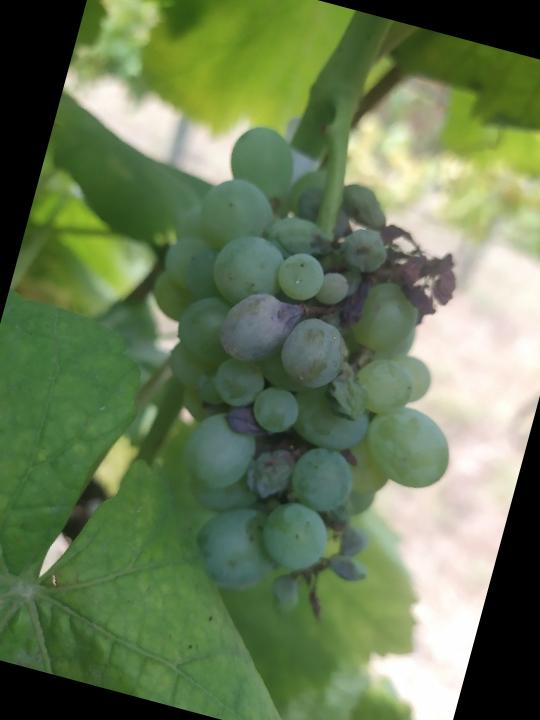grape: (77, 107, 526, 648)
